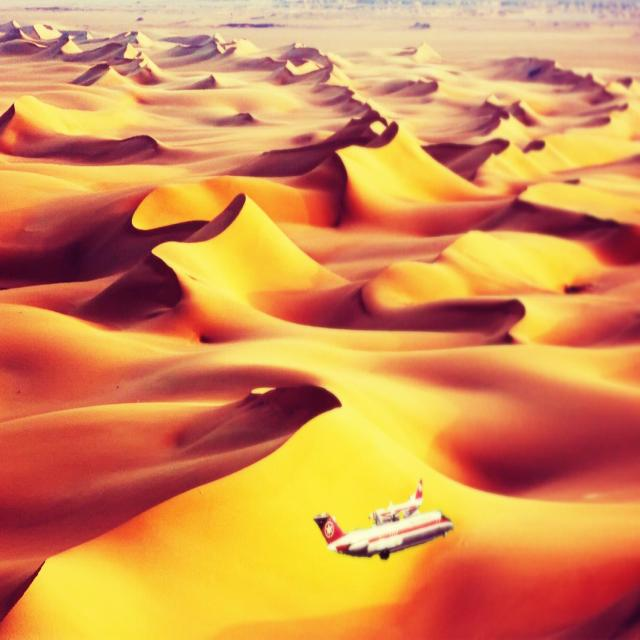airplane: (312, 509, 456, 563), (368, 480, 427, 528)
